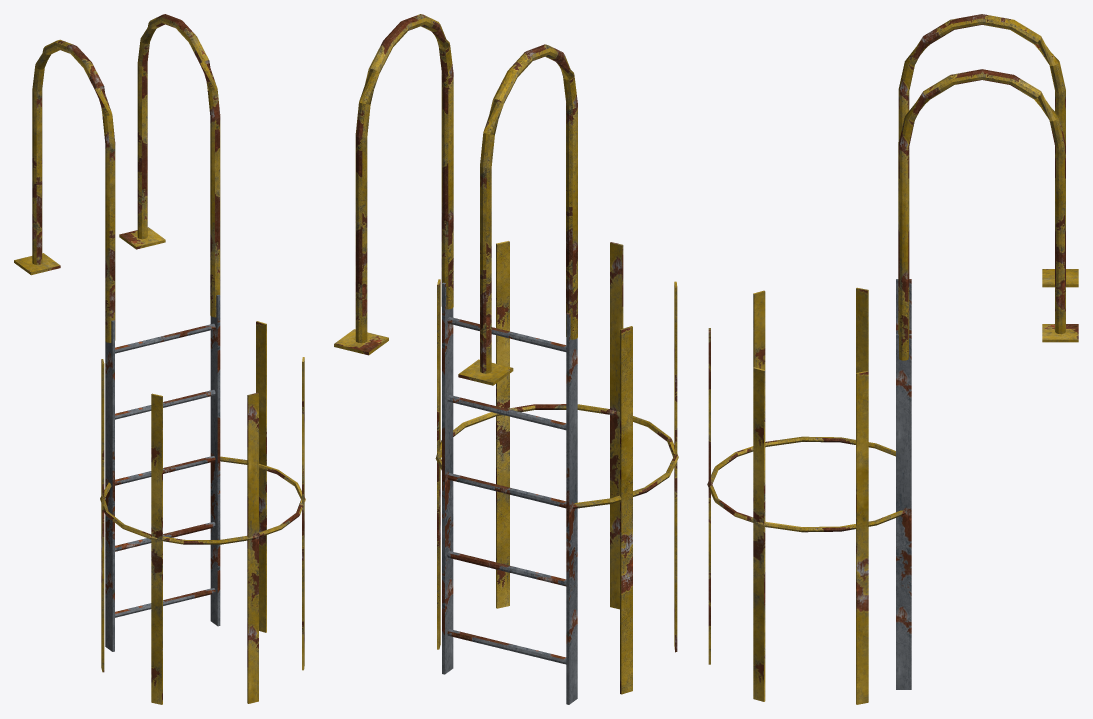
File: kafesli_merdiven_cikis.gltf
3 renders of one model, left to right at view 1: azimuth 30°, elevation 25°; view 2: azimuth 150°, elevation 25°; view 3: azimuth 270°, elevation 25°, orthographic. The views are drawn at different scales.
Visible parts, largest first — view 1: kafesli_merdiven_cikis; view 2: kafesli_merdiven_cikis; view 3: kafesli_merdiven_cikis.
Part boxes in pixels (x1,y1,x2,y2): kafesli_merdiven_cikis: (14,14,305,704); kafesli_merdiven_cikis: (334,14,678,704); kafesli_merdiven_cikis: (707,14,1078,704).
Size of what is drawn, in the model's own units: 0.839 by 2.62 by 1.42.
Materials: 2 (2 with a texture image).
